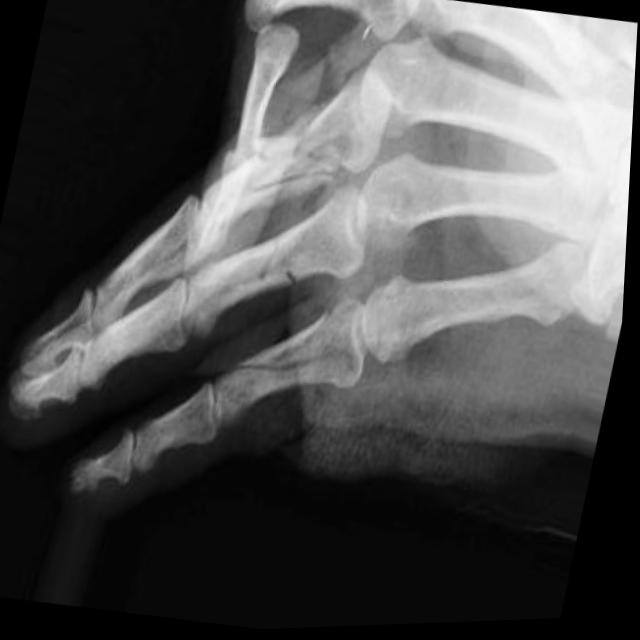fracture: (226, 334, 355, 411), (247, 140, 348, 214), (246, 230, 310, 294)
